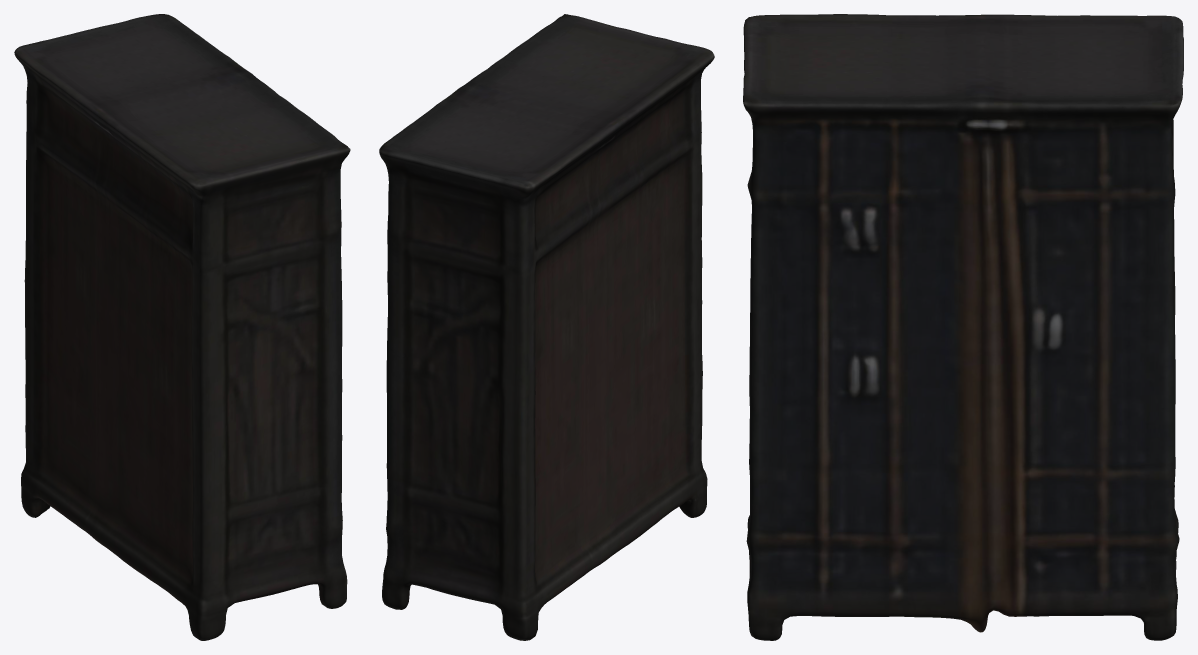
File: e28861864d2b_medieval_wardrobe__.fbx
3 views of the same model, side by side, from view 1: azimuth 30°, elevation 25°; view 2: azimuth 150°, elevation 25°; view 3: azimuth 270°, elevation 25° (orthographic). The views are drawn at different scales.
Visible parts, largest first — view 1: mesh; view 2: mesh; view 3: mesh.
Boxes of the visible parts, box(x1,y1,x2,y2) form: mesh: box(14, 14, 350, 640); mesh: box(379, 14, 714, 640); mesh: box(743, 14, 1183, 640).
Size of the model in its own units: 36.22 by 99.89 by 73.45.
